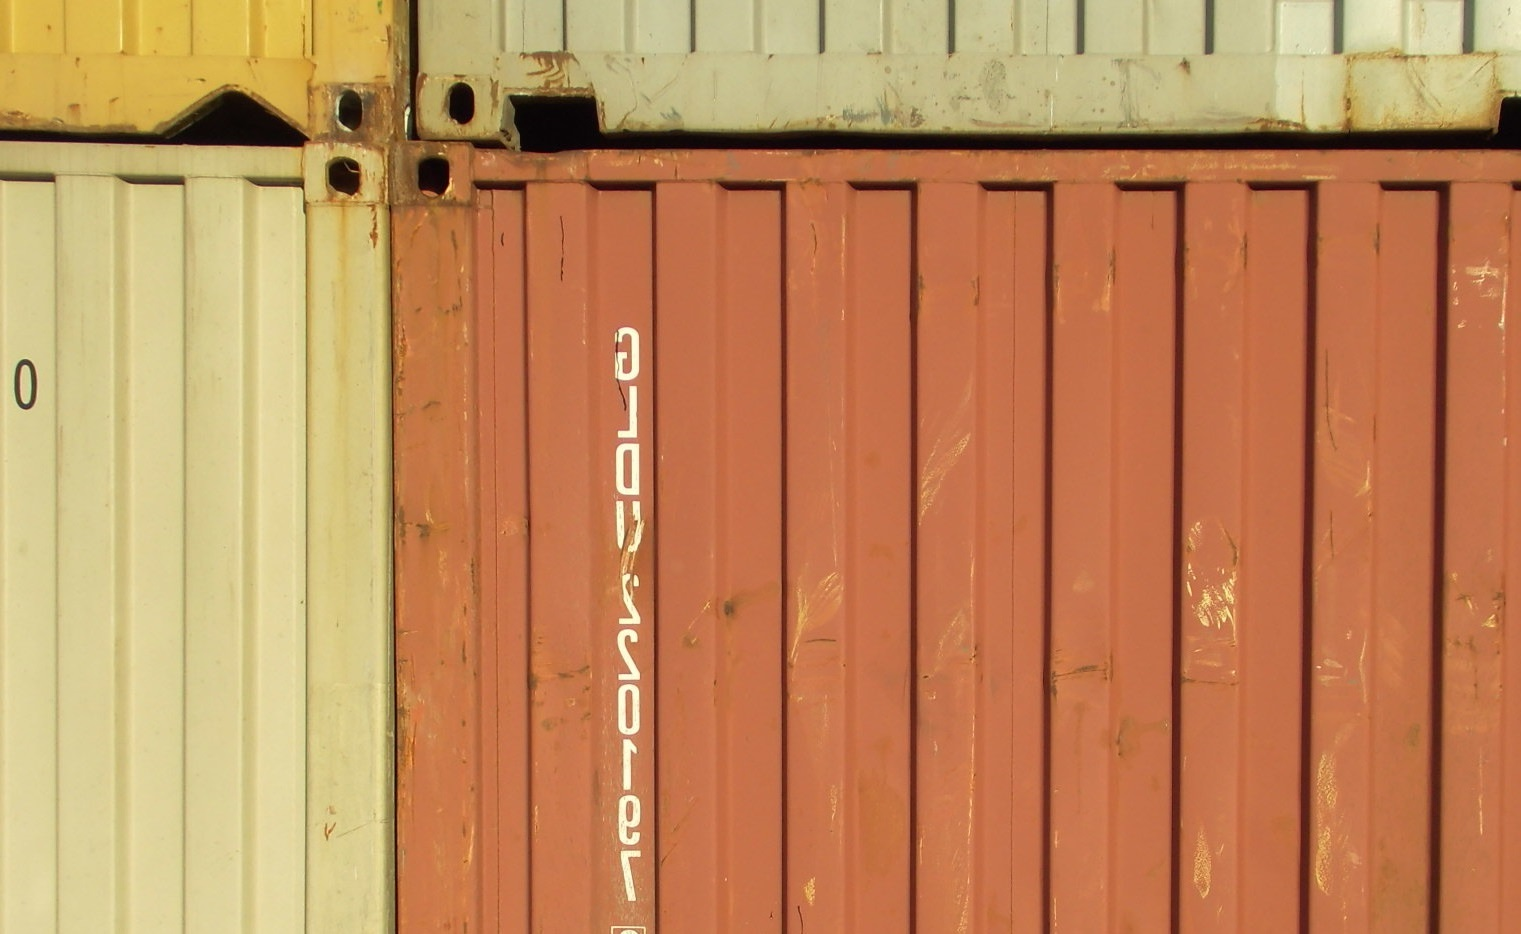container_no_door: (391, 130, 1521, 932), (1, 131, 389, 932)
